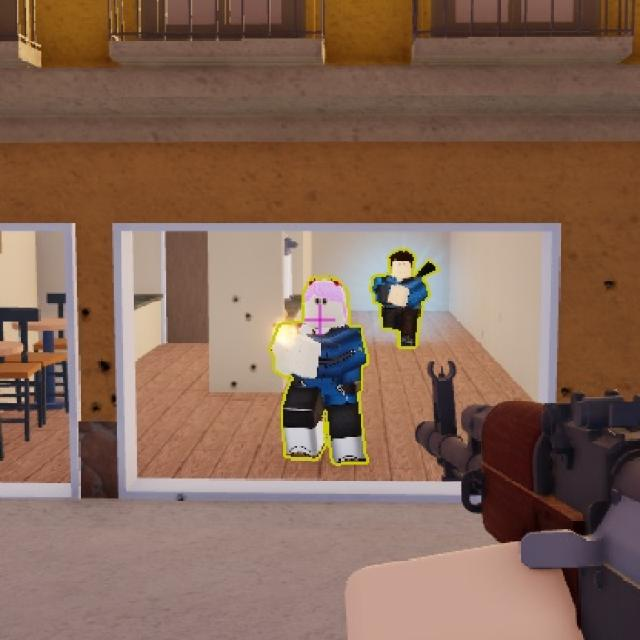player: (288, 277, 362, 462), (380, 241, 422, 359)
